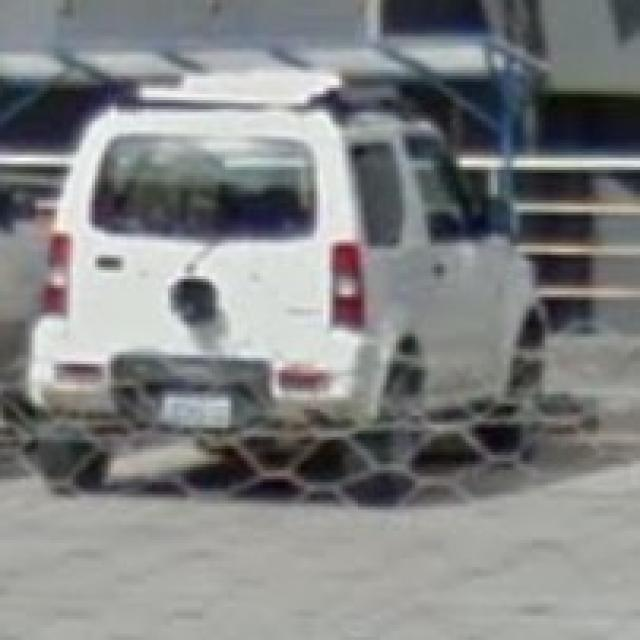cars: (27, 64, 547, 497)
